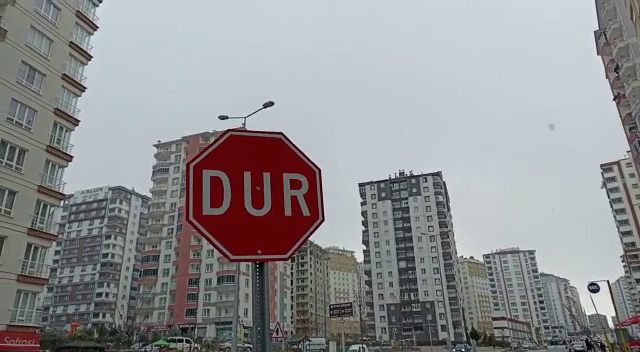stop: (183, 125, 329, 265)
